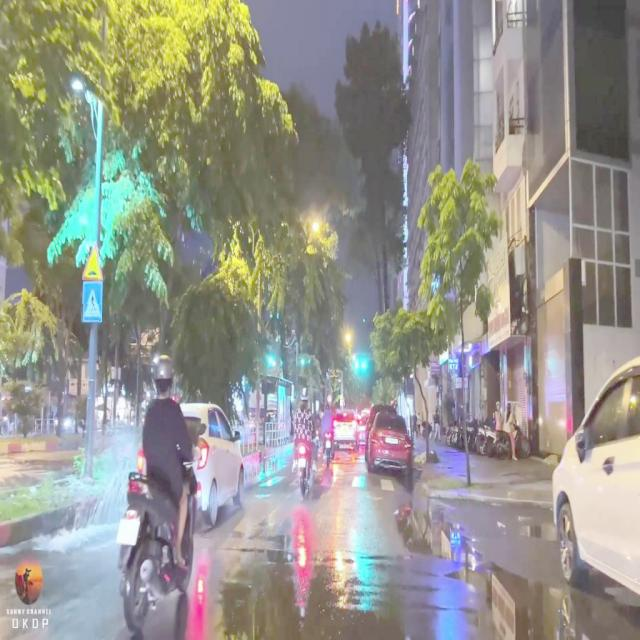duong_co_song_map_mo_nhan_tao: (82, 242, 105, 280)
duong_nguoi_di_bo_sang_ngang: (81, 281, 102, 322)
